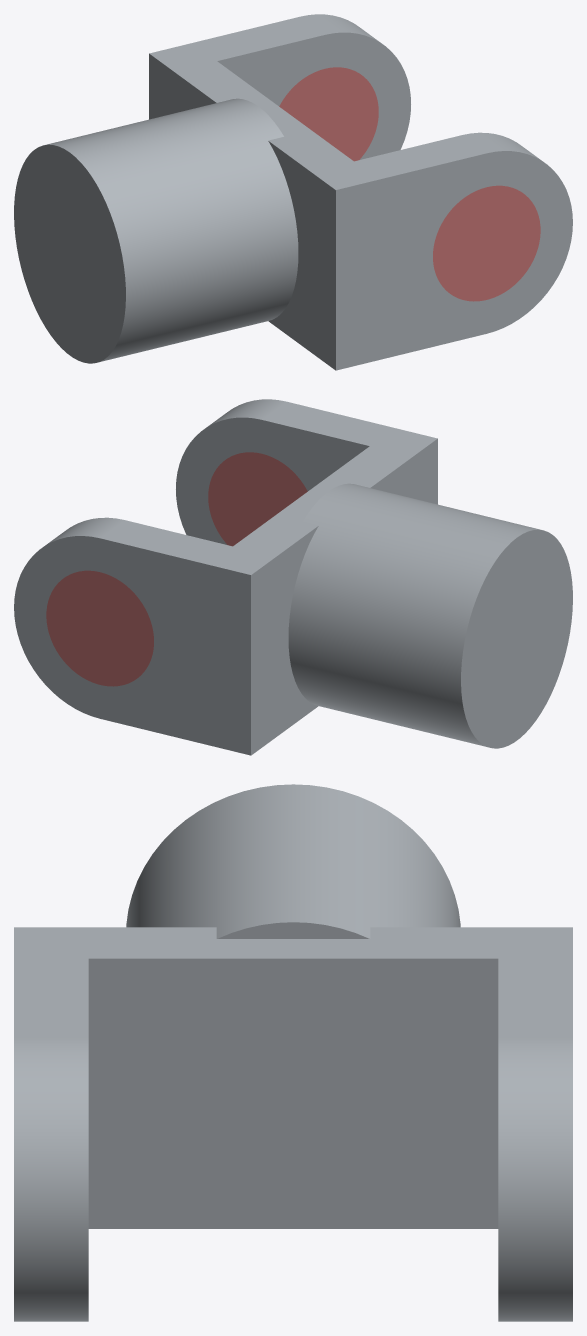
Rendered from step_03.glb.
3 views of the same model, one above another, from view 1: azimuth 30°, elevation 25°; view 2: azimuth 150°, elevation 25°; view 3: azimuth 270°, elevation 25° (orthographic). The views are drawn at different scales.
Parts seen in each view (by area): view 1: part__input yoke, removed__input yoke; view 2: part__input yoke, removed__input yoke; view 3: part__input yoke.
Boxes of the visible parts, box(x1,y1,x2,y2) form: part__input yoke: box(14, 14, 572, 370); removed__input yoke: box(279, 67, 540, 301); part__input yoke: box(14, 399, 572, 755); removed__input yoke: box(46, 452, 307, 686); part__input yoke: box(14, 784, 572, 1321).
Size of the model in its own units: 76 by 36 by 60.
